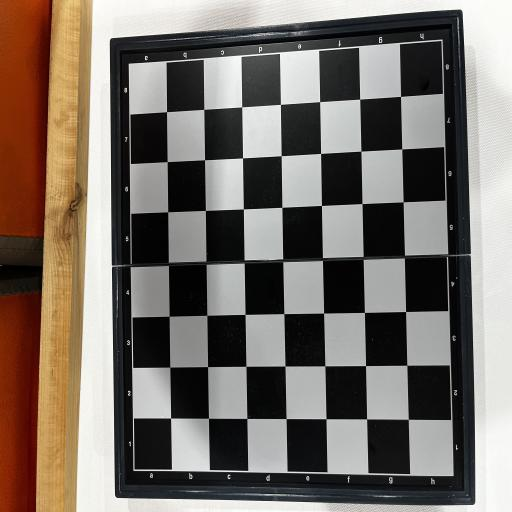Board: (110, 8, 476, 506)
